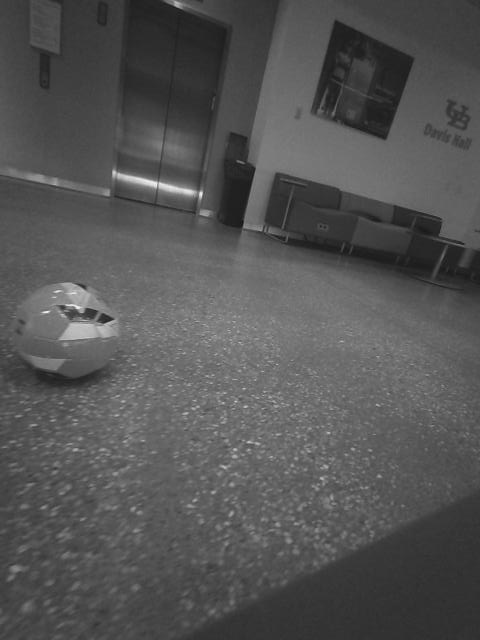ball: (74, 164, 209, 293)
